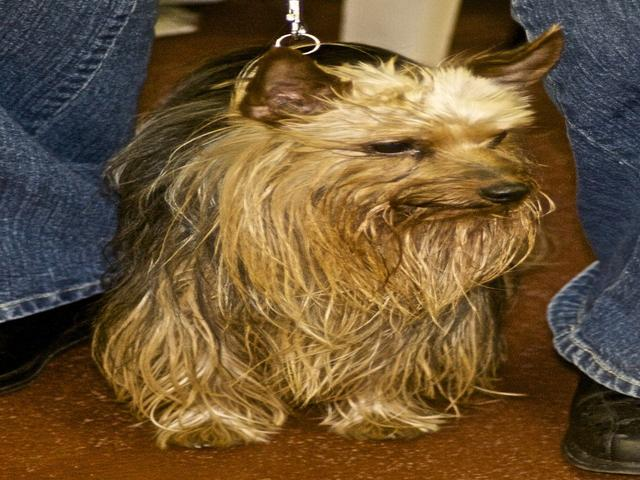dog: (80, 29, 562, 467)
